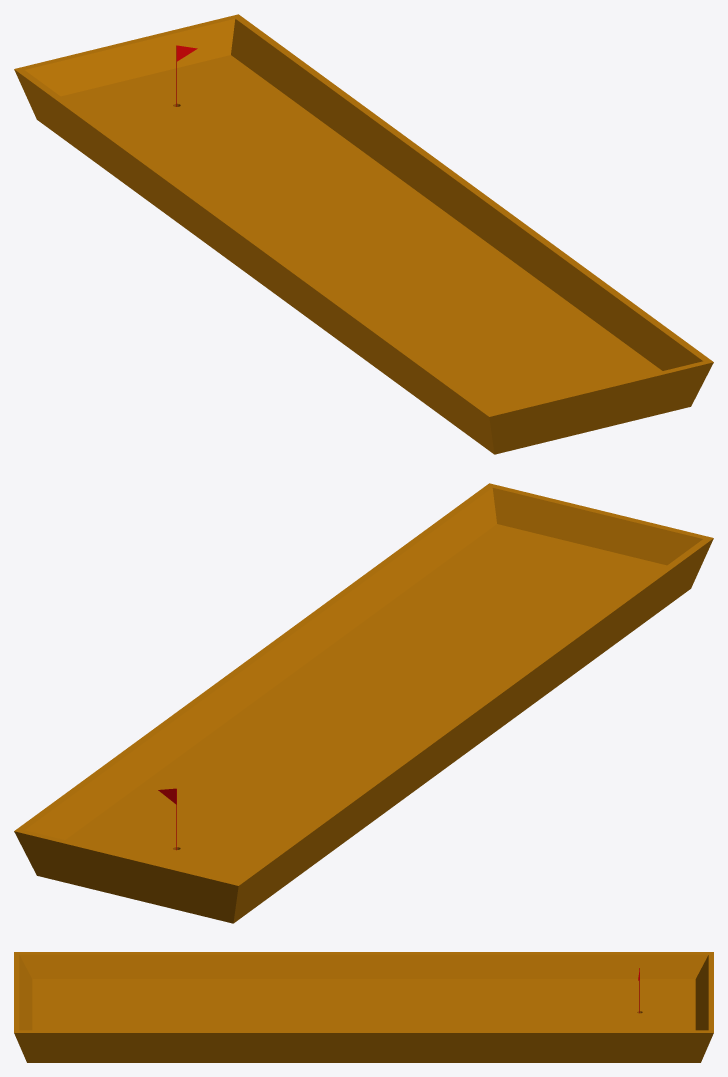
File: level_10.glb
3 views of the same model, one above another, from view 1: azimuth 30°, elevation 25°; view 2: azimuth 150°, elevation 25°; view 3: azimuth 270°, elevation 25° (orthographic). The views are drawn at different scales.
Visible parts, largest first — view 1: green; view 2: green; view 3: green.
Boxes of the visible parts, <box> form: green: <box>14,14,713,454</box>; green: <box>14,483,713,923</box>; green: <box>14,952,713,1062</box>.
Size of the model in its own units: 3.19 by 1.09 by 11.69.
